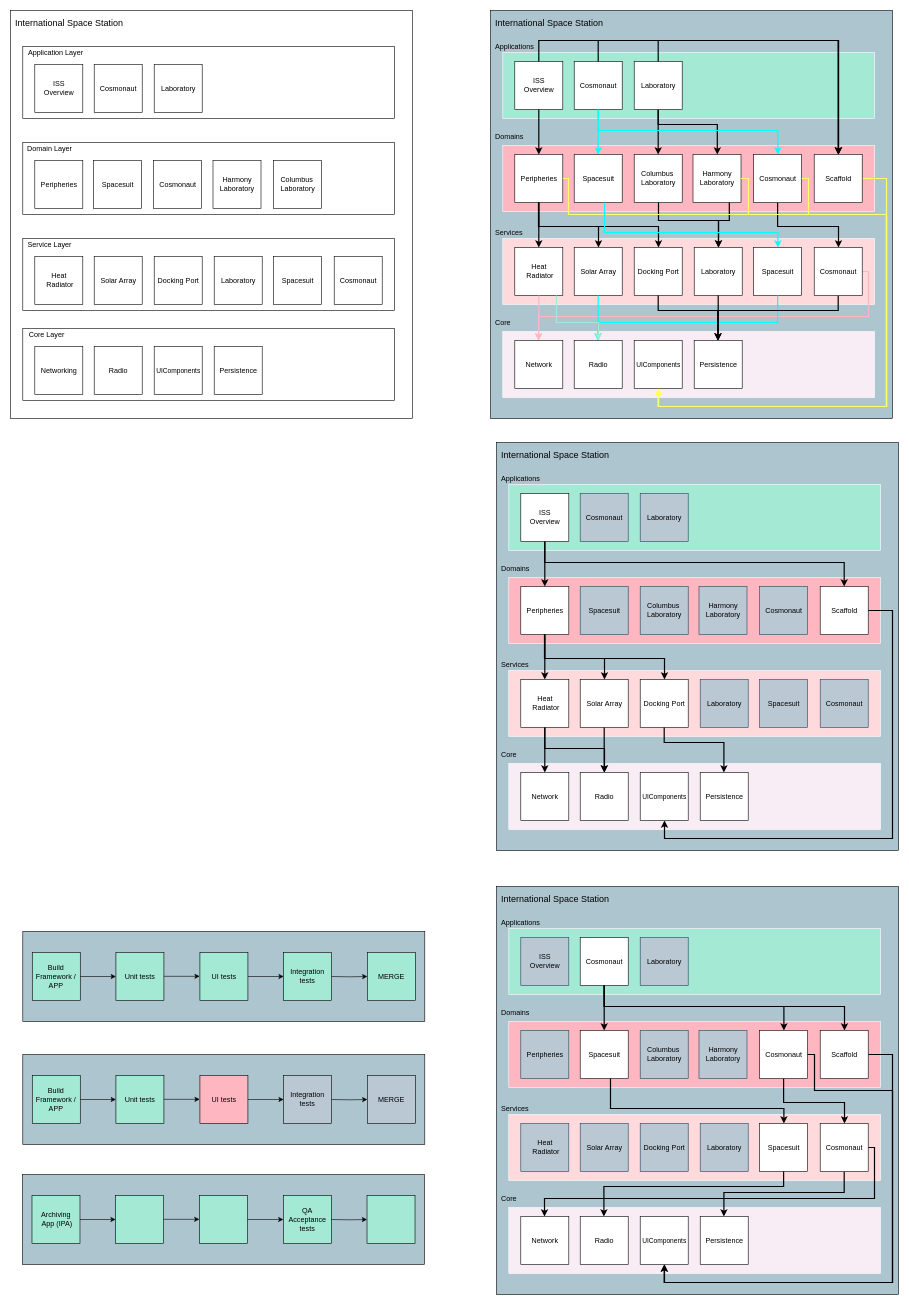
Some shapes in this 909 by 1305 pixel diagram are drawn without their labels. Here are the shapes that lost their labels. From the top down, the centre of each, then its label:
the point at 139,1219: Signing
the point at 223,1219: Deployment to distribution centers
the point at 390,1219: Alpha / Beta / RC / Production
